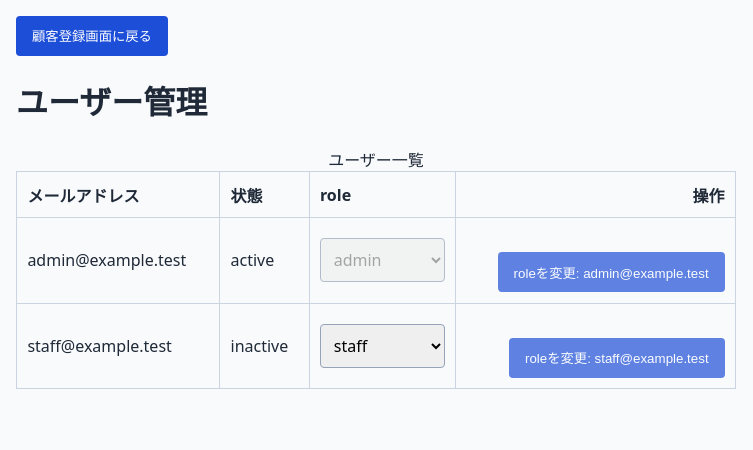
Test: UsersManagement › shows a 409 message without clearing Authentication
Select "admin" in the dropdown next to "inactive": (382, 346) top-left (320, 324), bottom-right (445, 368)
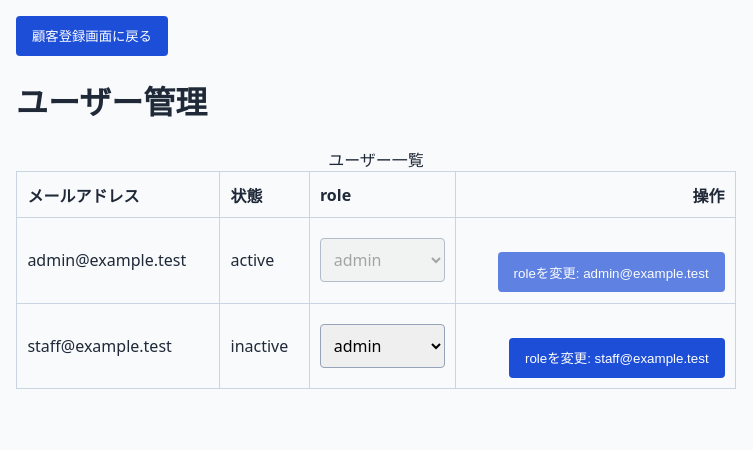
Click the button "roleを変更: staff@example.test": click(617, 358) top-left (509, 338), bottom-right (725, 378)
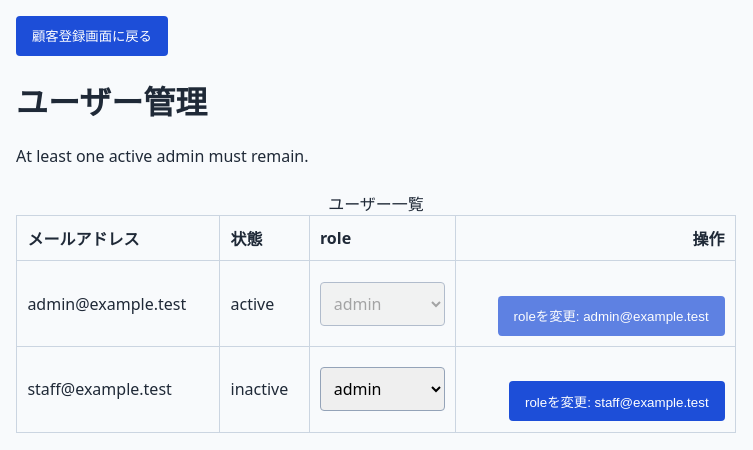
expect the heading "ユーザー管理" is shown: met, box top-left (16, 80), bottom-right (207, 123)
expect the message reads "At least one active admin must remain.": met, box top-left (16, 145), bottom-right (308, 167)
